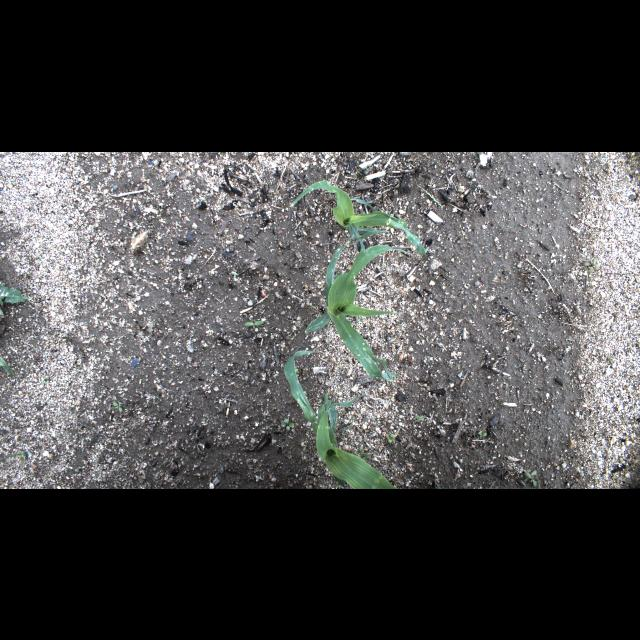crop: (284, 350, 402, 488), (306, 242, 409, 384), (291, 180, 429, 256), (1, 356, 16, 376)
weed: (0, 282, 30, 316), (336, 410, 354, 446), (418, 184, 442, 206), (351, 162, 371, 186), (0, 452, 28, 462), (584, 256, 598, 274), (356, 446, 370, 464), (522, 470, 538, 484), (524, 470, 538, 486), (280, 418, 294, 430), (243, 320, 263, 328), (113, 401, 123, 412), (40, 376, 50, 384), (606, 354, 614, 364), (478, 429, 487, 437), (416, 414, 424, 422), (388, 432, 394, 442), (522, 468, 530, 474), (531, 390, 537, 398), (422, 358, 428, 366), (434, 482, 442, 488), (230, 466, 236, 472), (294, 368, 300, 374), (34, 254, 41, 258), (166, 378, 170, 384), (233, 271, 237, 277), (362, 316, 364, 322)
